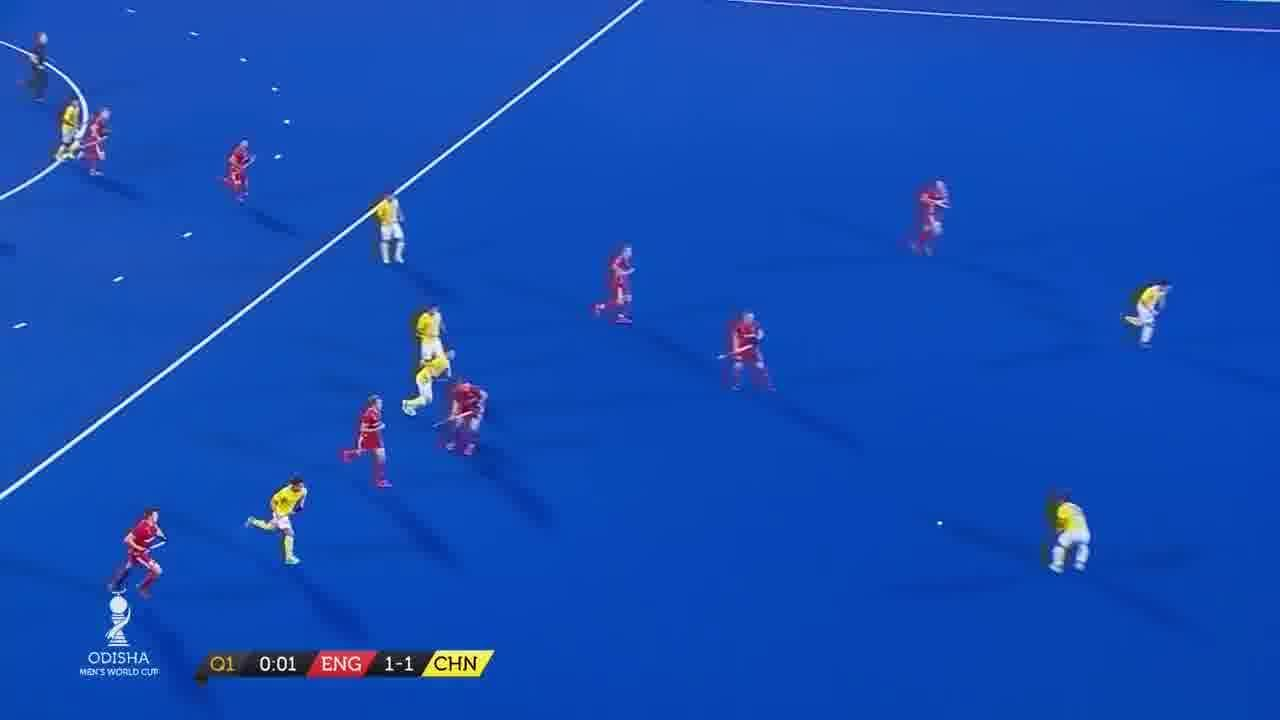ball: (930, 511, 951, 534)
